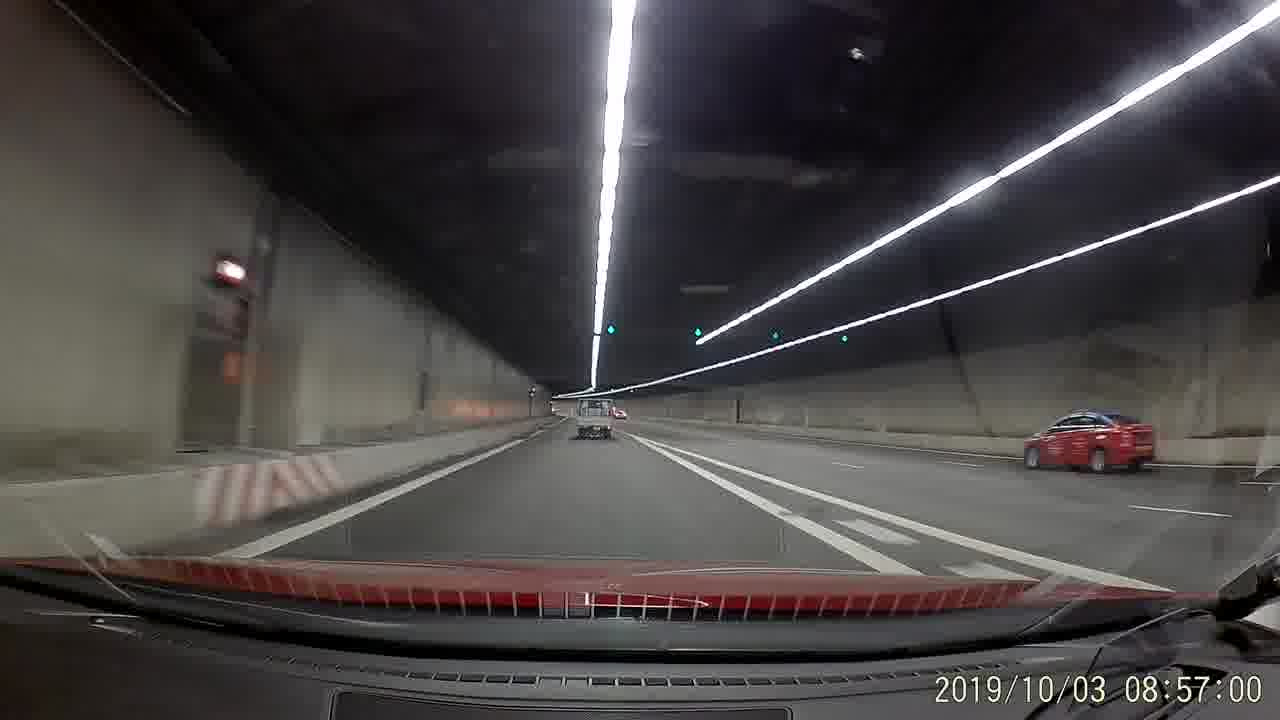car: (1016, 408, 1157, 475)
